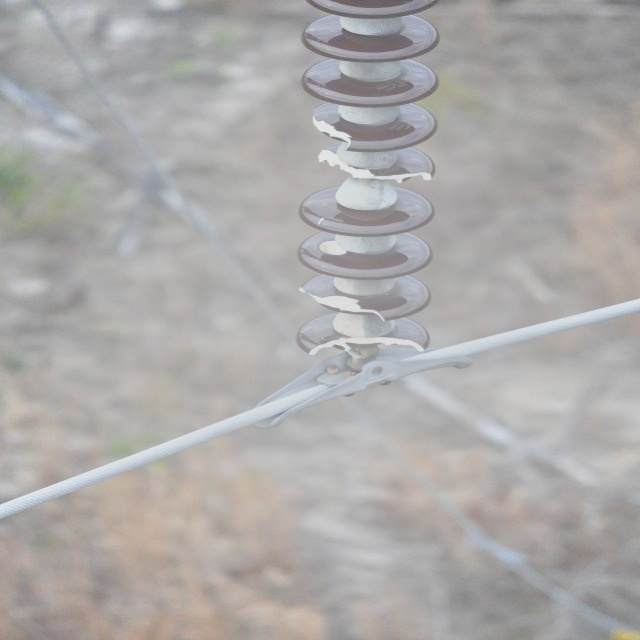broken: (312, 145, 435, 185), (298, 285, 387, 323), (302, 108, 354, 154), (308, 335, 425, 355), (314, 240, 348, 256)
insulator: (292, 0, 448, 363)
